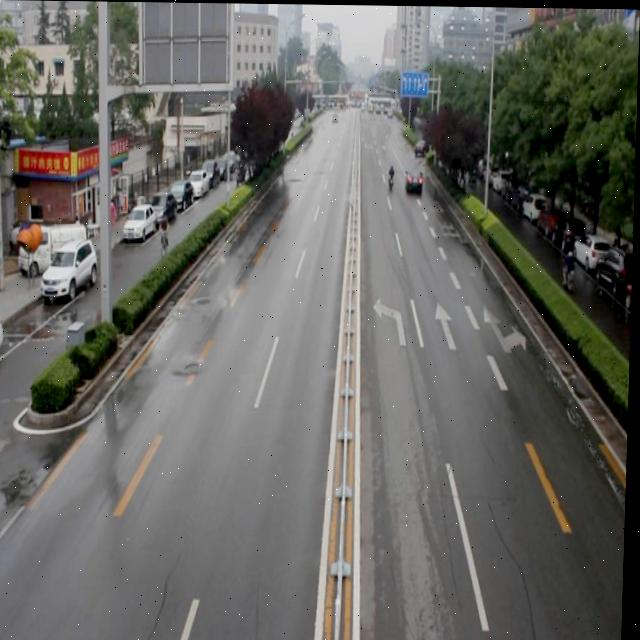car: (405, 166, 425, 192)
